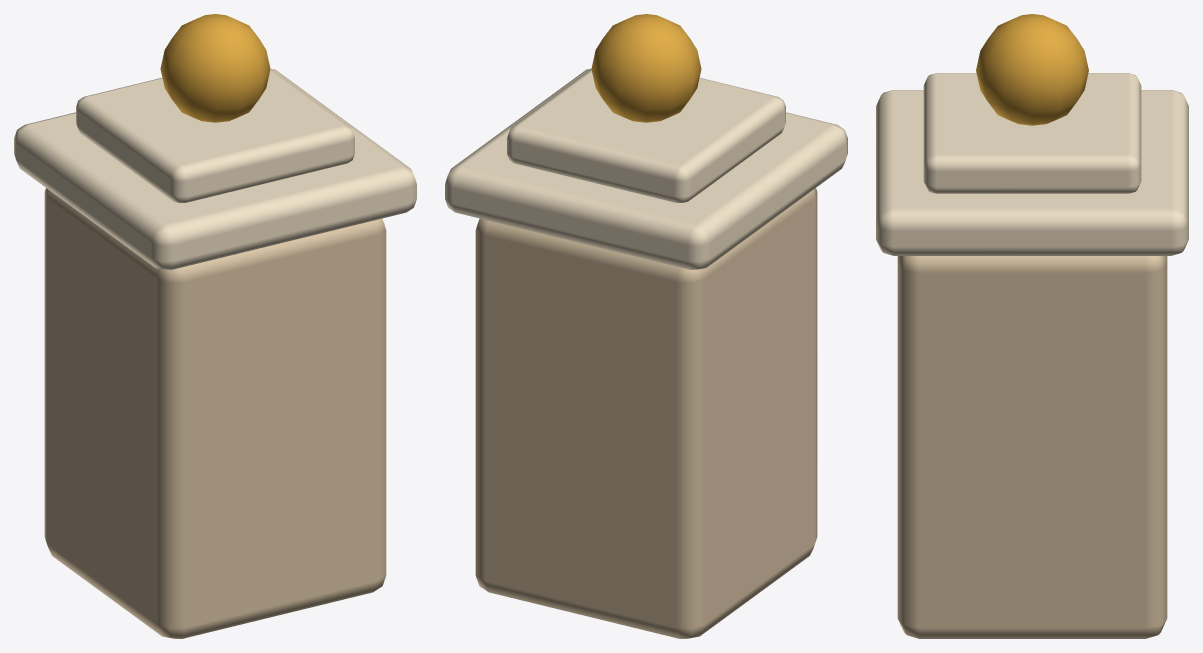
Rendered from rt_parapet_post.glb.
The picture shows the model from 3 angles, left to right: view 1: azimuth 30°, elevation 25°; view 2: azimuth 150°, elevation 25°; view 3: azimuth 270°, elevation 25°; orthographic projection. The views are drawn at different scales.
Visible parts, largest first — view 1: rt_parapet_post_body; view 2: rt_parapet_post_body; view 3: rt_parapet_post_body.
Part boxes in pixels (left/top/right/bottom): rt_parapet_post_body: left=14, top=14, right=416, bottom=638; rt_parapet_post_body: left=445, top=14, right=847, bottom=638; rt_parapet_post_body: left=876, top=14, right=1188, bottom=638.
Size of the model in its own units: 0.72 by 1.45 by 0.72.
